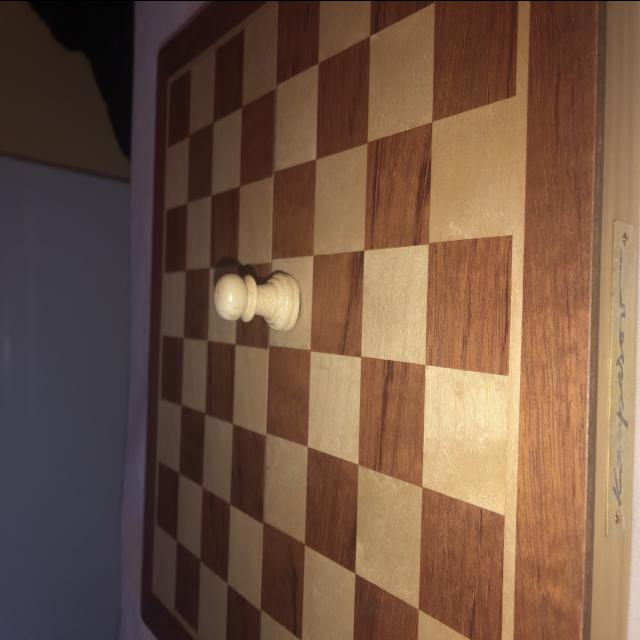white_pawn: (211, 268, 304, 332)
